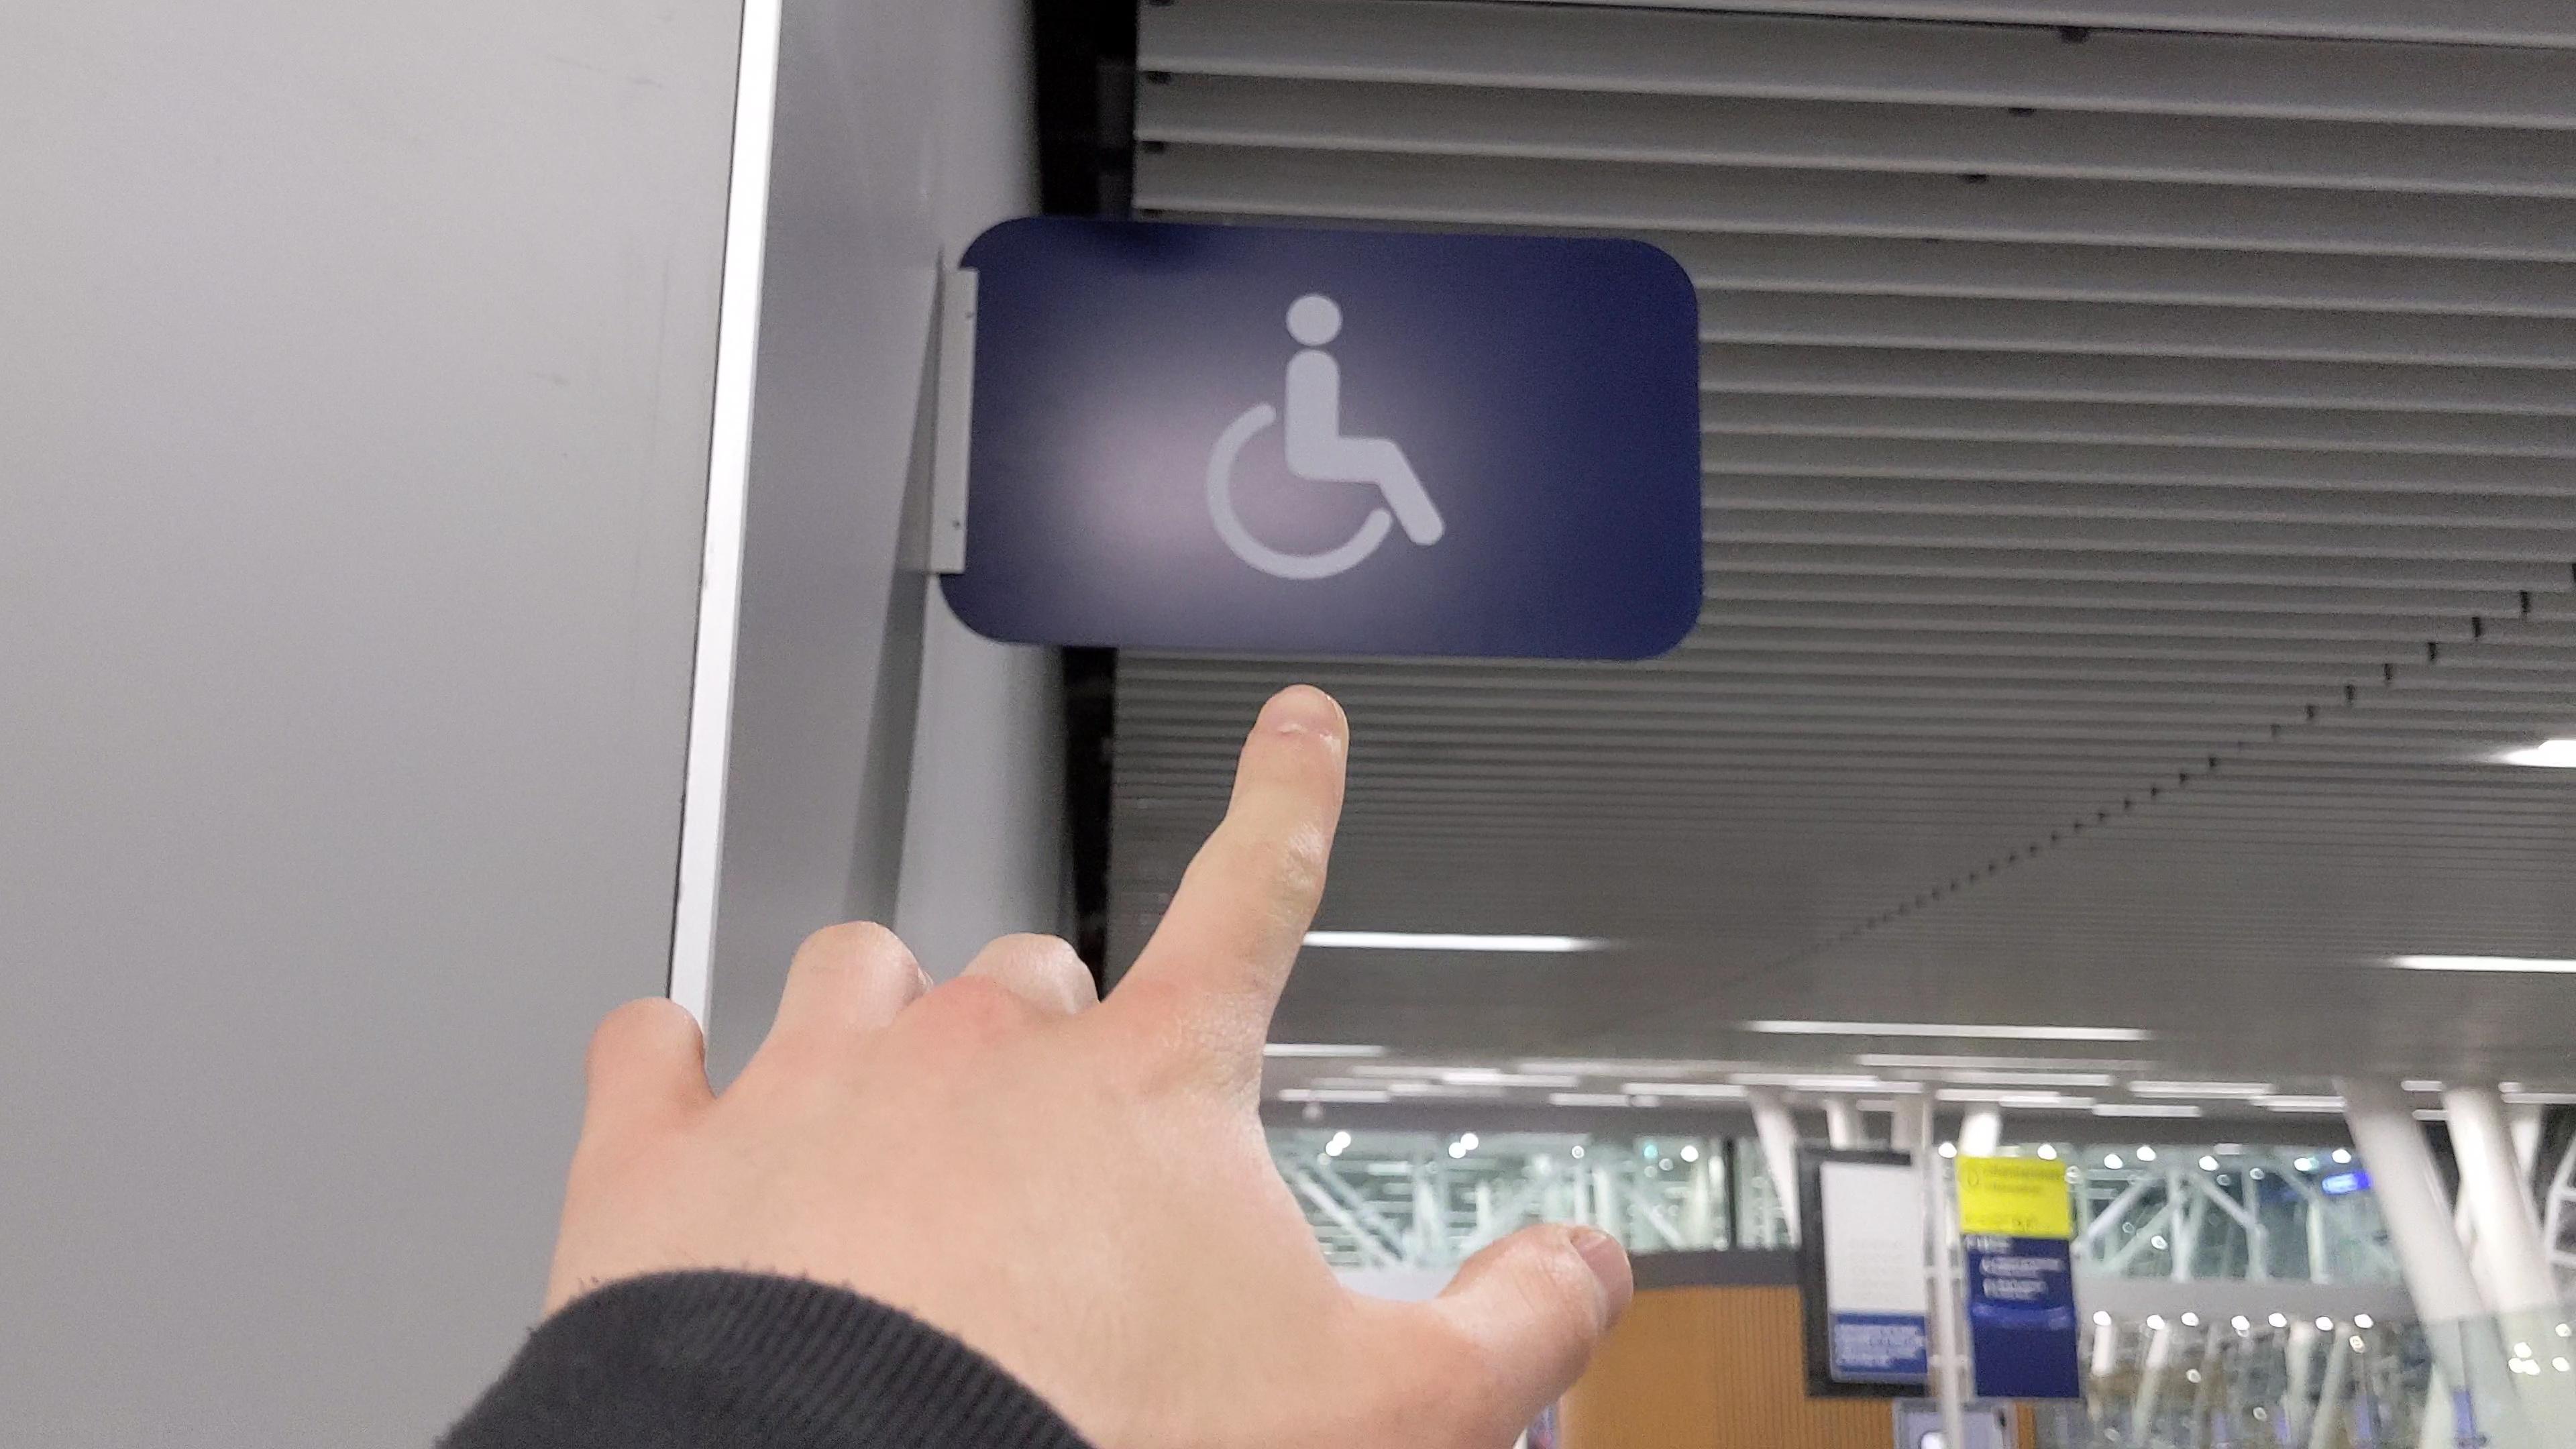handicapped symbol: (1198, 285, 1454, 593)
